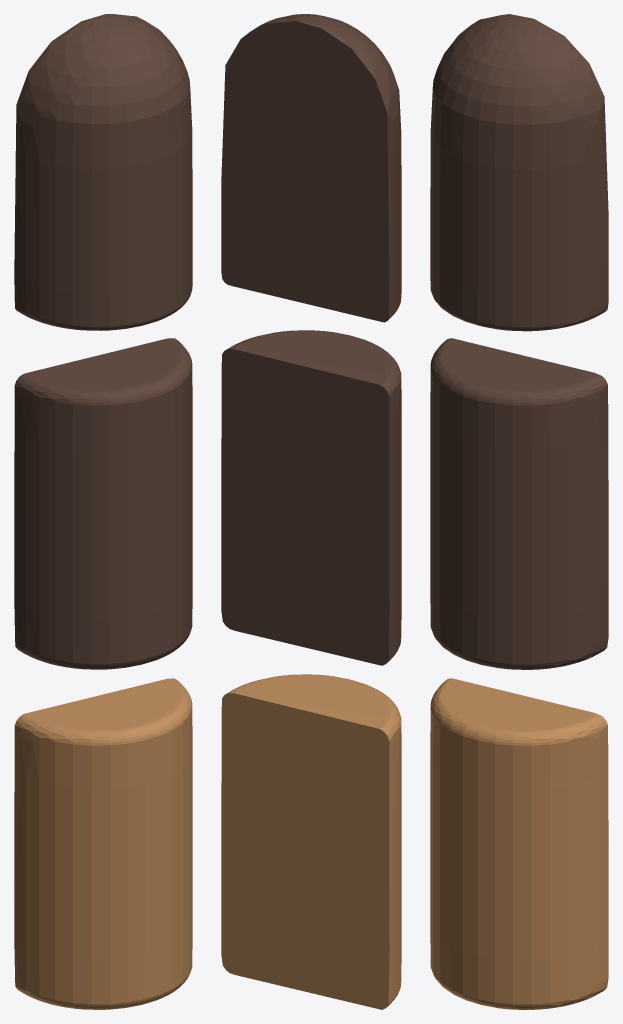
Rendered from pepero.glb.
The picture shows the model from 3 angles, left to right: view 1: azimuth 30°, elevation 25°; view 2: azimuth 150°, elevation 25°; view 3: azimuth 330°, elevation 25°; orthographic projection.
Parts seen in each view (by area): view 1: Circle.523; view 2: Circle.523; view 3: Circle.523.
Part boxes in pixels (<box>): Circle.523: <box>14,14,192,1009</box>; Circle.523: <box>221,14,401,1009</box>; Circle.523: <box>430,14,608,1009</box>.
Size of the model in its own units: 10 by 55.02 by 4.97.
